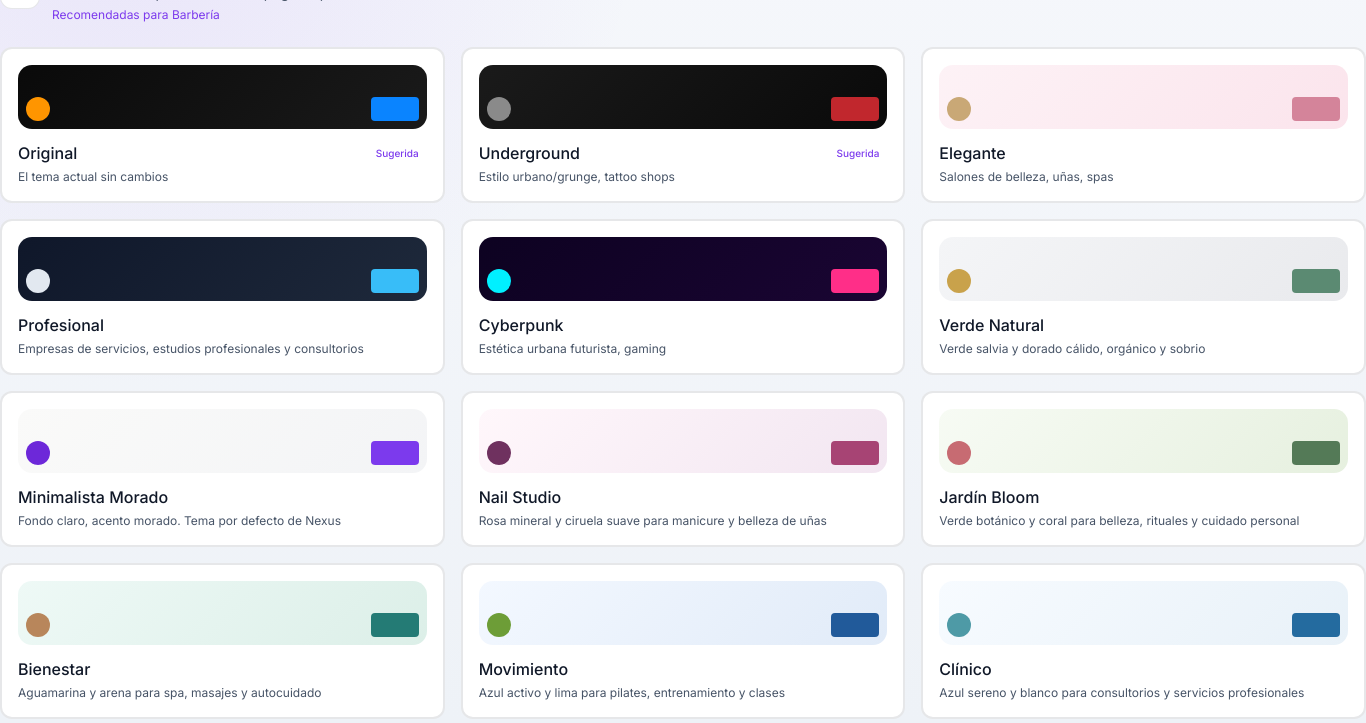
Test: saving a normal theme also resets portal_template to classic so a premium one stops overriding it
The width and height of the screenshot is (1366, 723).
Later steps or results of the test are not shown.
Click the button "Original Sugerida El tema actual sin cambios": (222, 125) [0, 47, 445, 203]
(page scrolled)
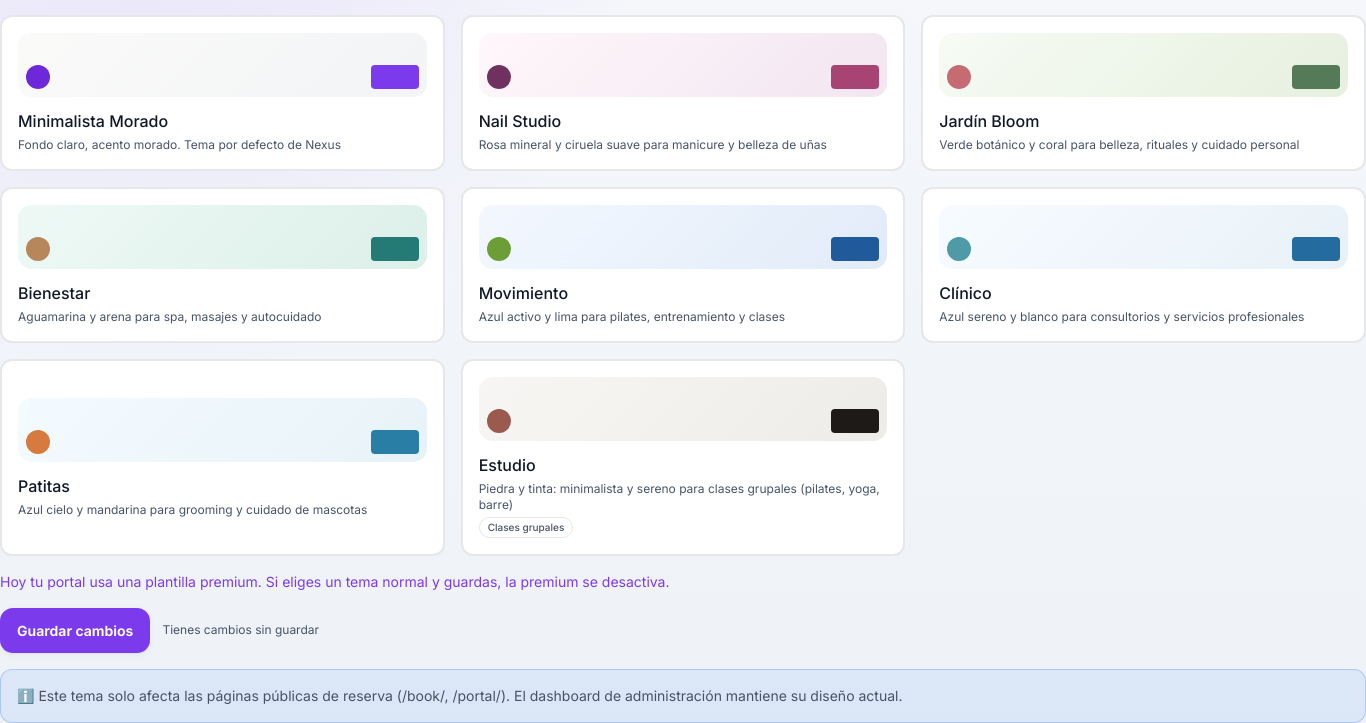
Expected: the button "Guardar cambios" is enabled, [0, 608, 150, 653]
